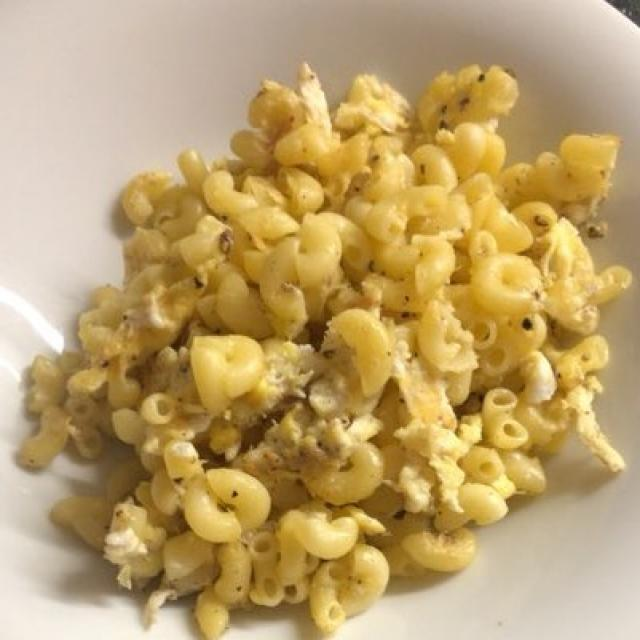pasta: (31, 76, 615, 615)
